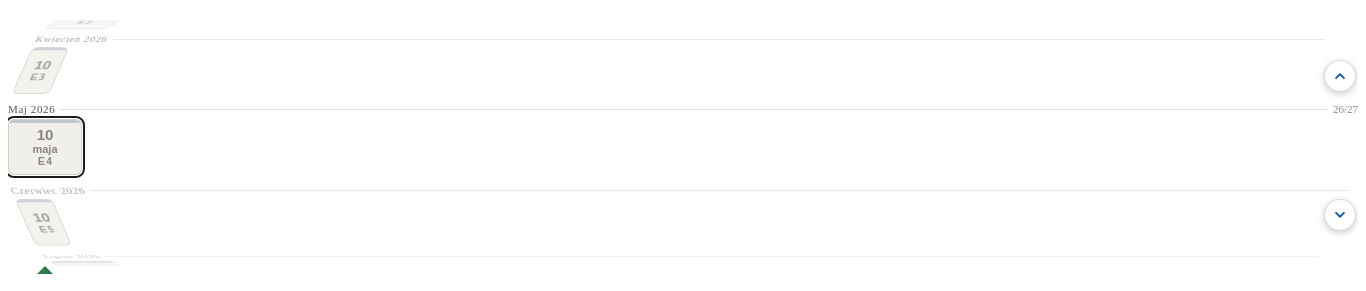
Scenario: CalendarBarrel — jump back to the opening row › CB.26: points UP from the future, on the upper seam toward the anchor
Note: rotate forward, away from the anchor
What coordinates should you click on to do the following:
click the button "Czerwiec 2026 10 E5"
I would click on:
 (48, 215)
Its box is [8,185,87,246].
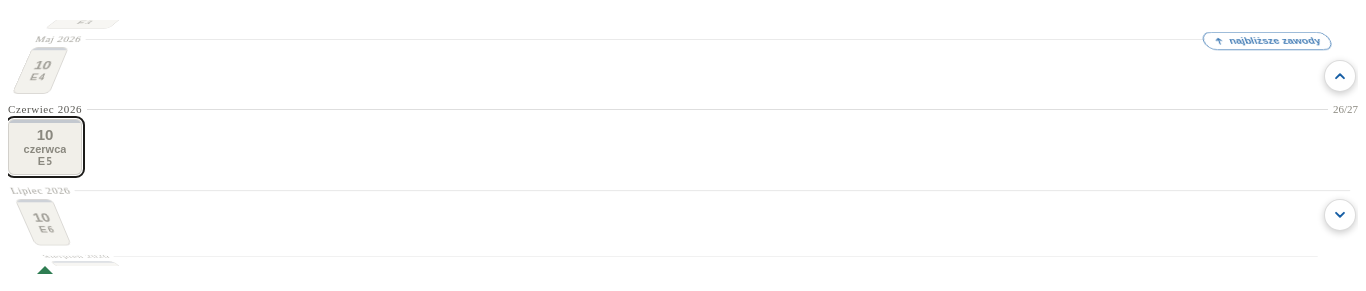
Now the button with class "jmp" reads "najbliższe zawody", box [1200,32,1335,50]
